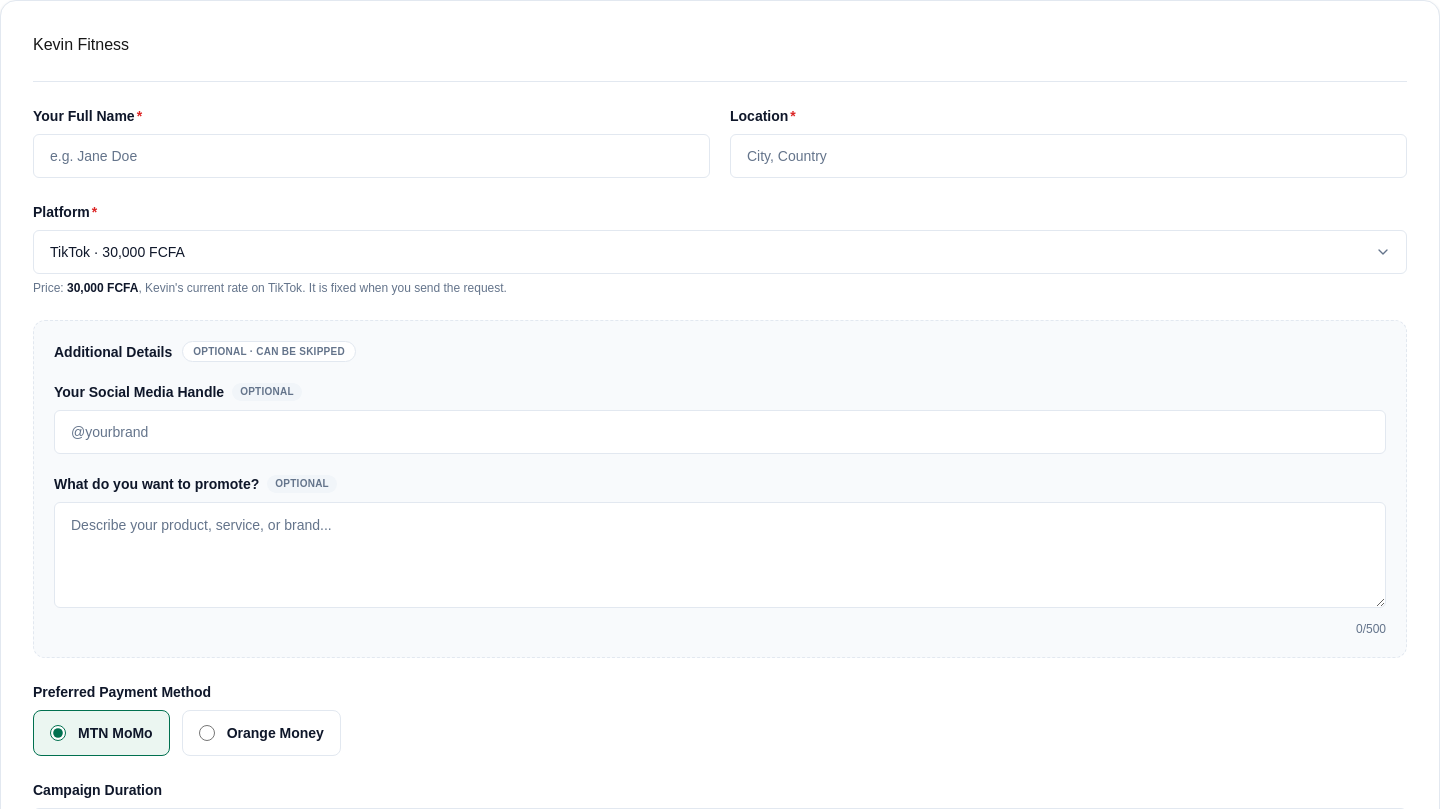
Test: hire form › keeps what was typed and says nothing was sent when the API refuses
The width and height of the screenshot is (1440, 809).
Type "Jane Brand" into the field labelled "Your Full Name*".
click(372, 156); type("Jane Brand")  # box [33, 134, 710, 178]
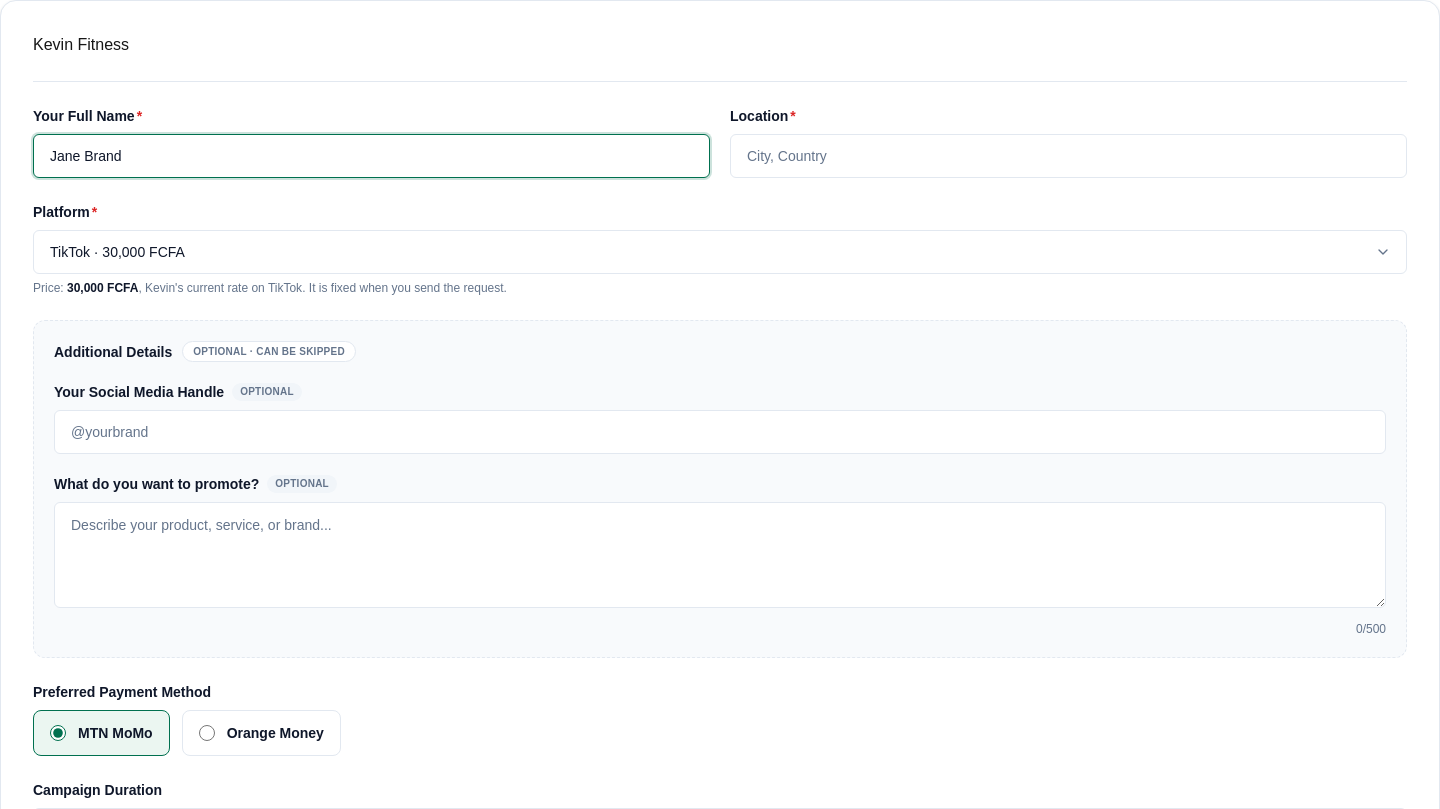
Type "Douala, Cameroon" into the field labelled "Location*".
click(1068, 156); type("Douala, Cameroon")  # box [730, 134, 1407, 178]
(page scrolled)
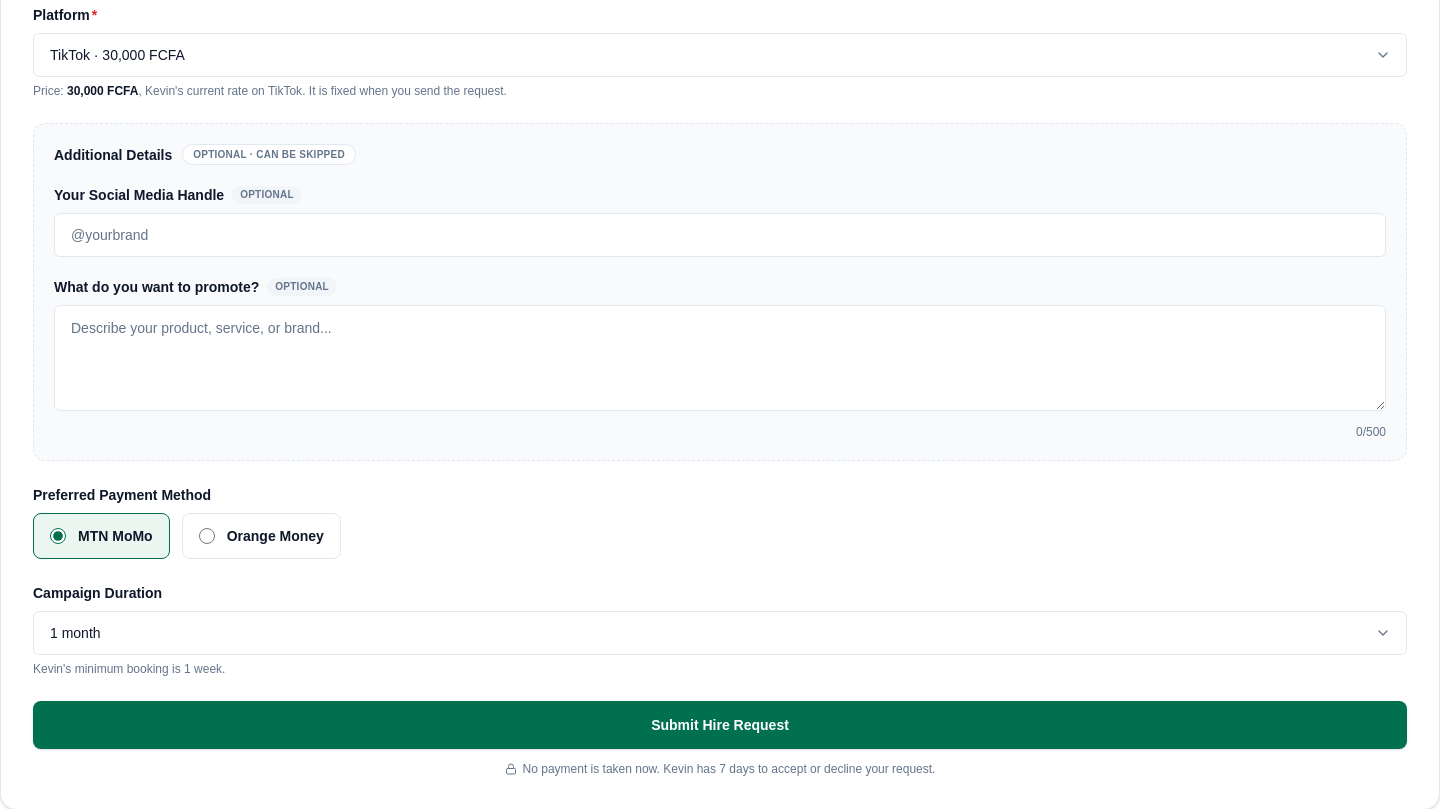
Click the button "Submit Hire Request".
click(720, 725)  # box [33, 701, 1407, 749]
(page scrolled)
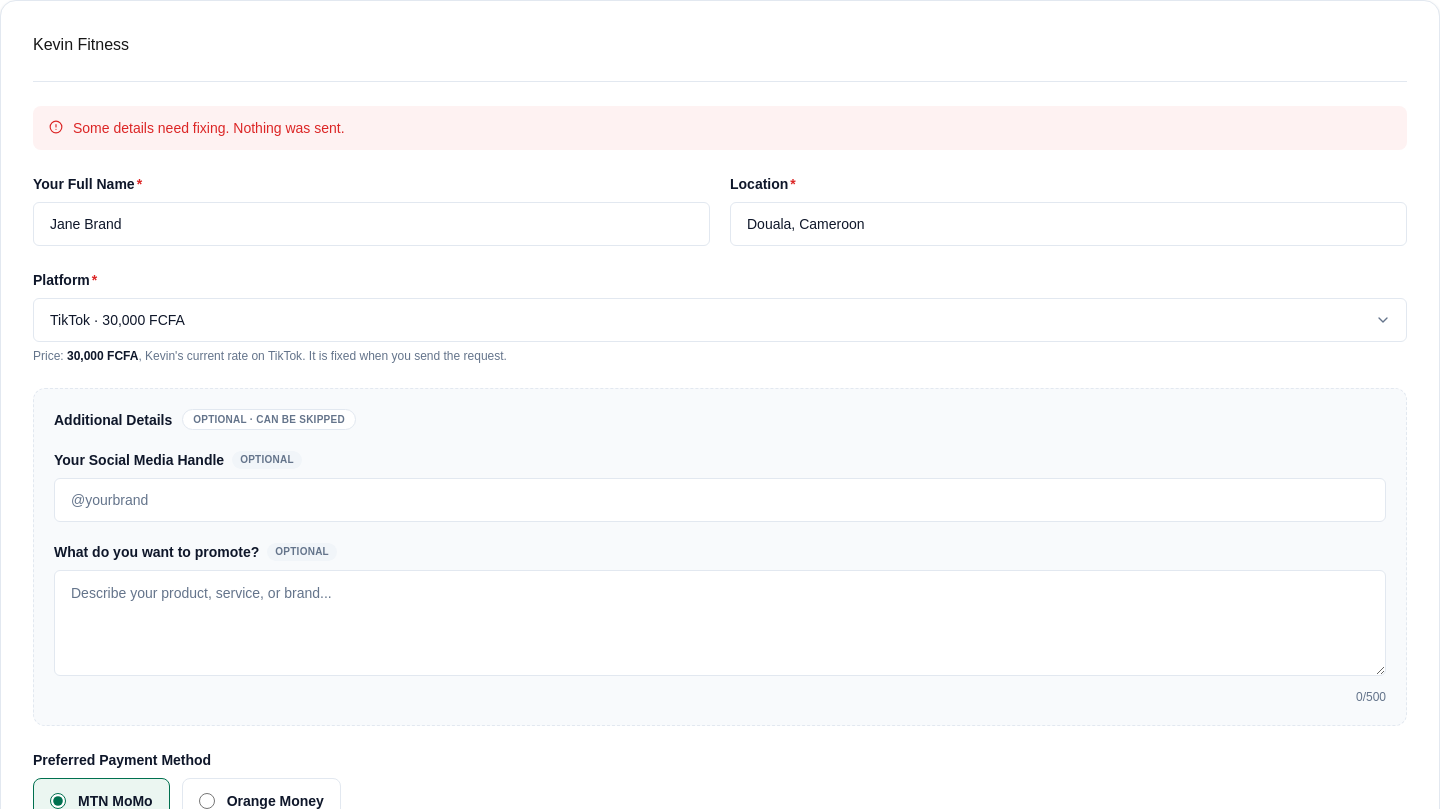
Result: the message shows "Nothing was sent" at [73, 120, 345, 136]
